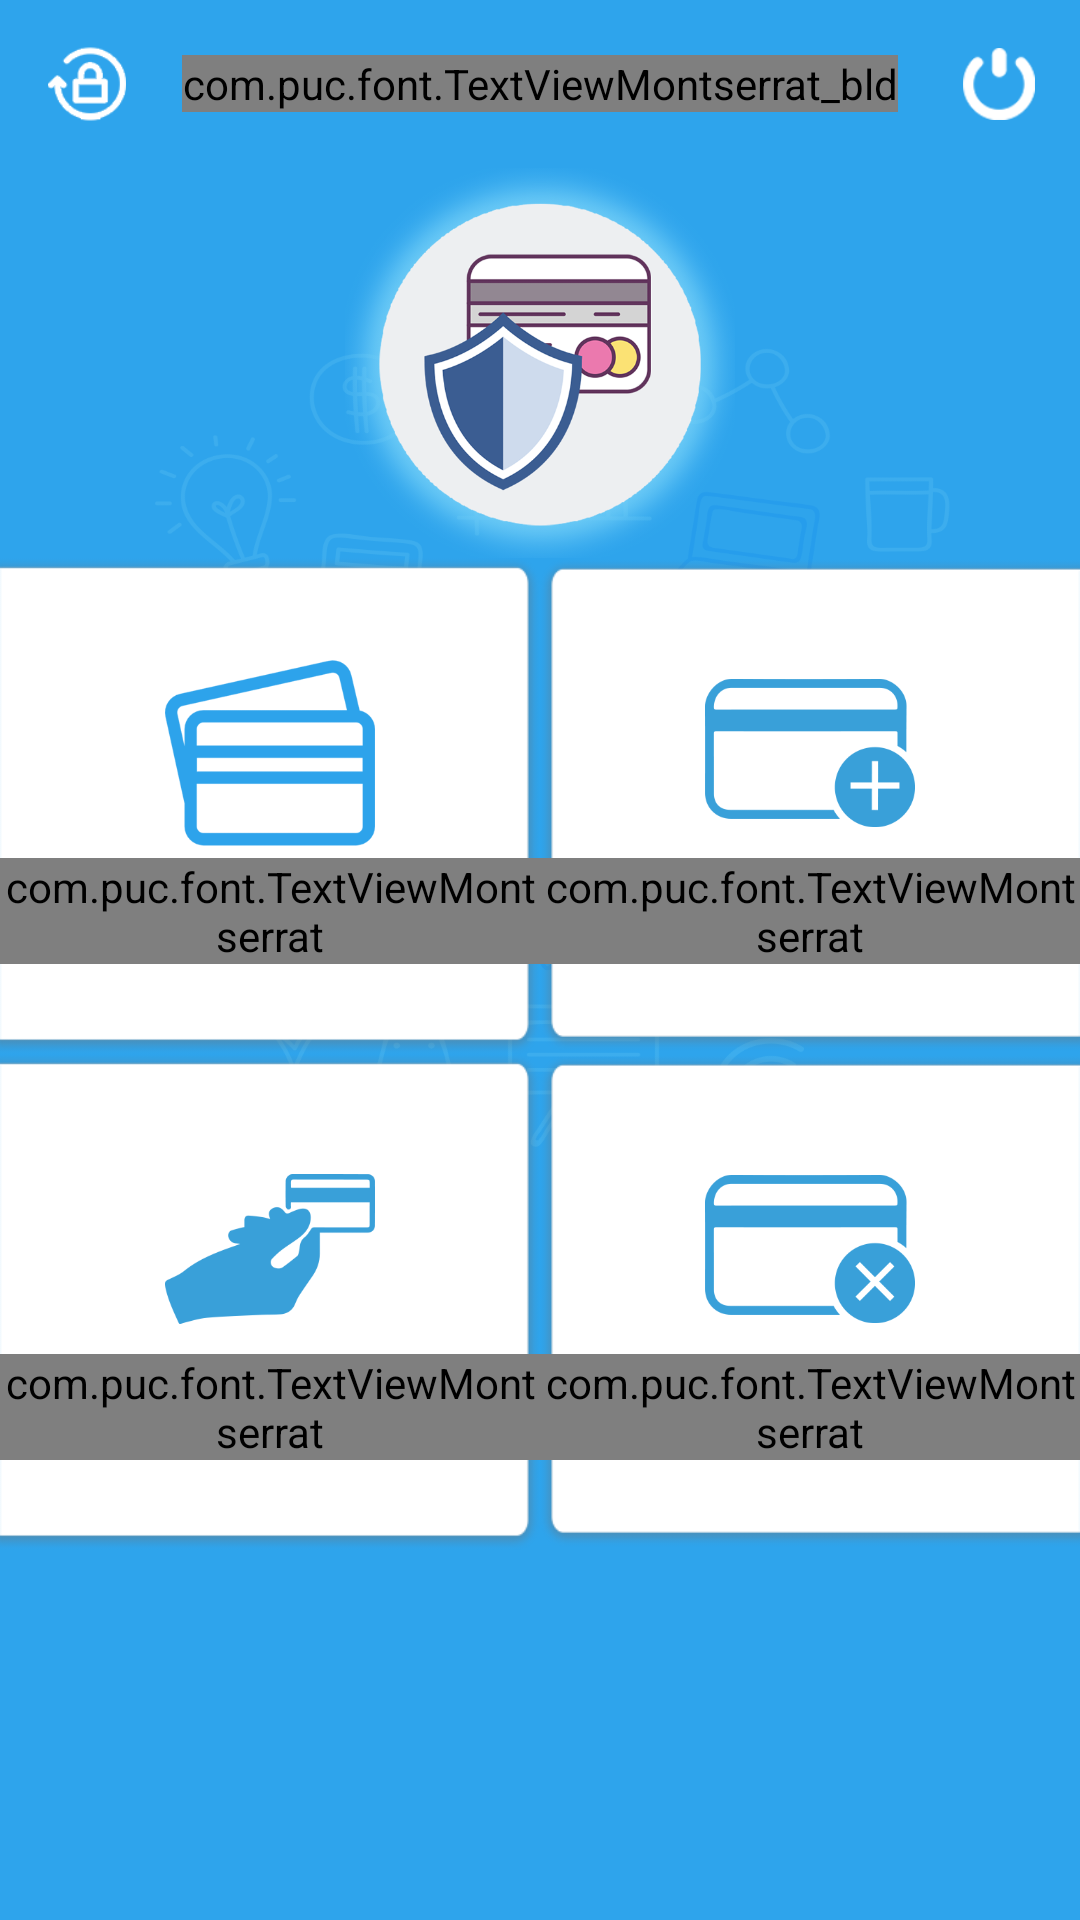

Screen size 1080w x 1920h. Icon name, then its center in pixels as (x,y):
change pwd: (87,84)
dash add card: (810,753)
dash cancel card: (810,1249)
dash request card: (270,1249)
dash save card: (270,753)
